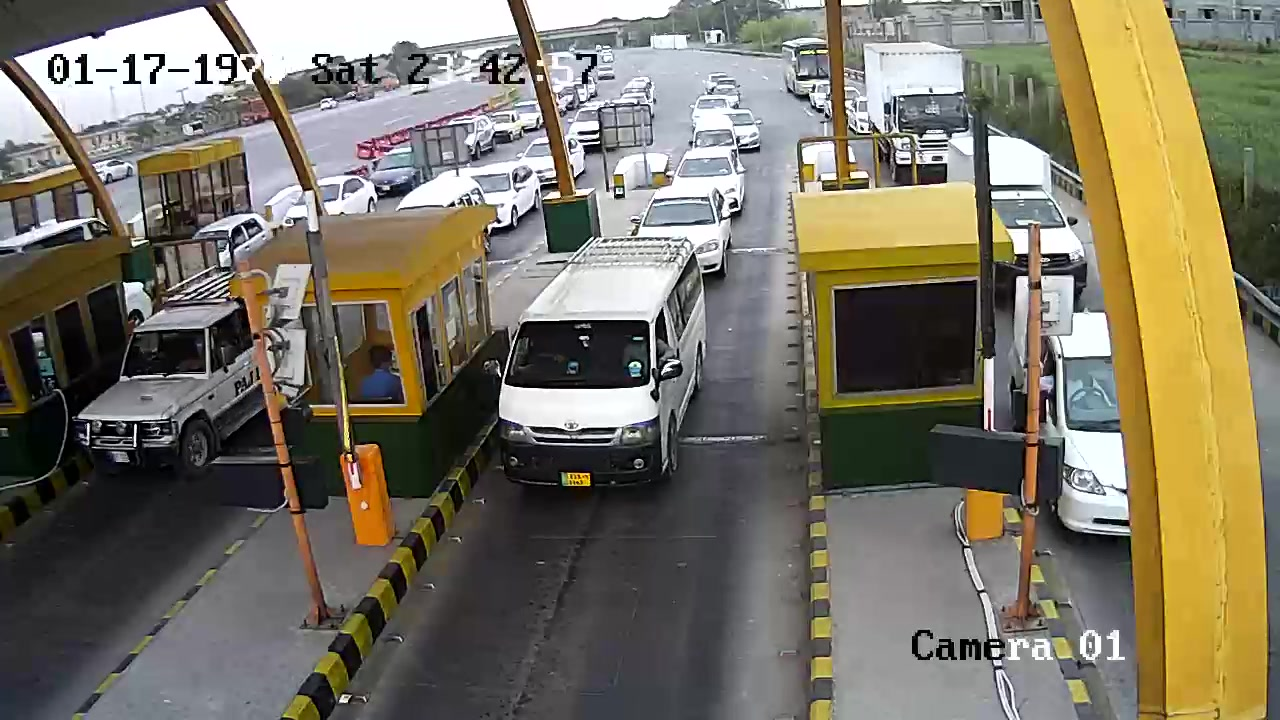F2: (498, 236, 711, 512)
